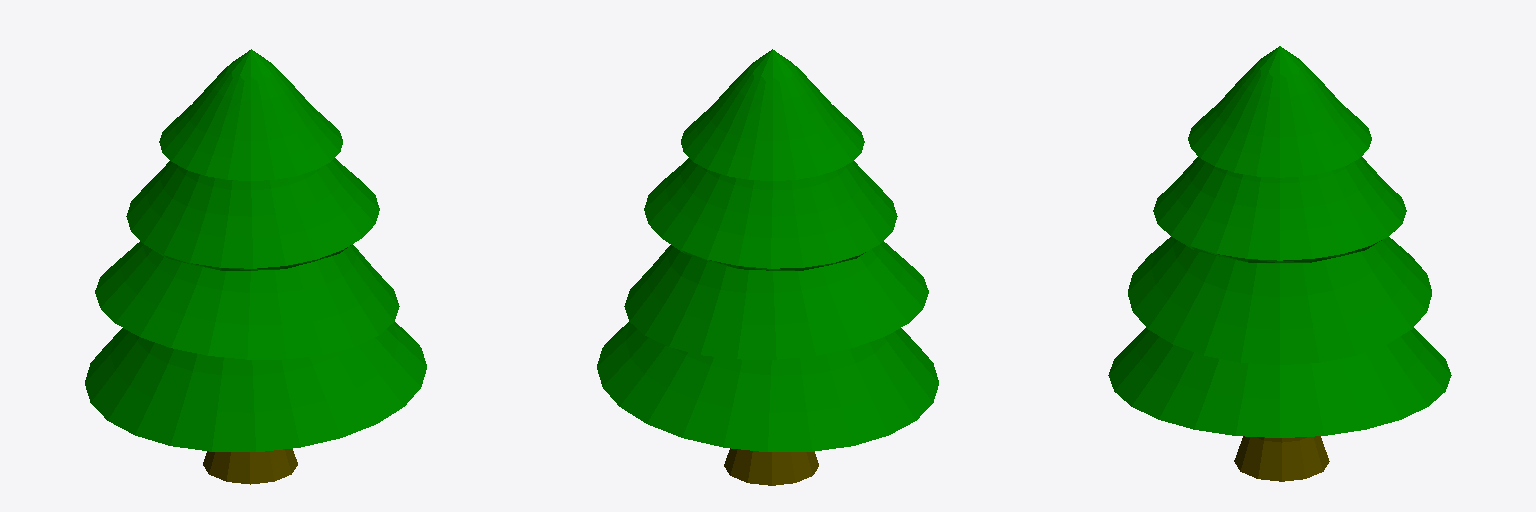
The model's file is tree2.obj.
3 renders of one model, left to right at view 1: azimuth 30°, elevation 25°; view 2: azimuth 150°, elevation 25°; view 3: azimuth 270°, elevation 25°, orthographic.
Parts seen in each view (by area): view 1: Cartoon_tree2; view 2: Cartoon_tree2; view 3: Cartoon_tree2.
Boxes of the visible parts, <box> form: Cartoon_tree2: <box>85,49,426,484</box>; Cartoon_tree2: <box>597,49,938,485</box>; Cartoon_tree2: <box>1108,46,1451,481</box>.
Bounding box in the file's own units: 35.07 × 46.96 × 35.13.